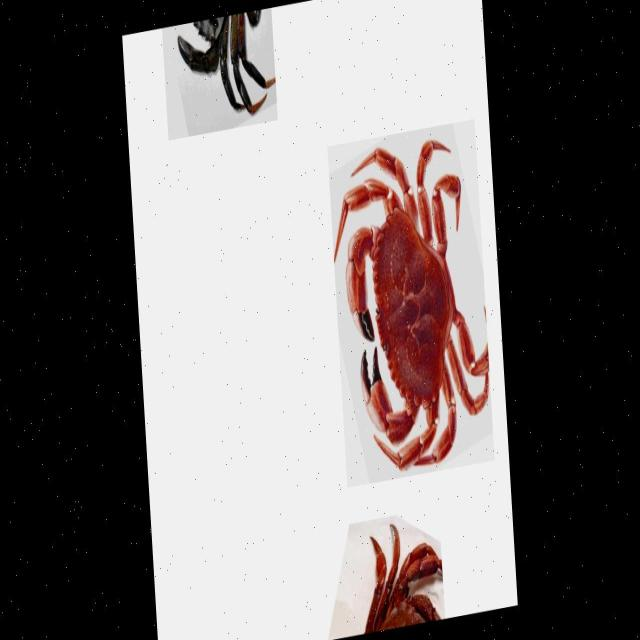egc: (177, 9, 277, 117)
